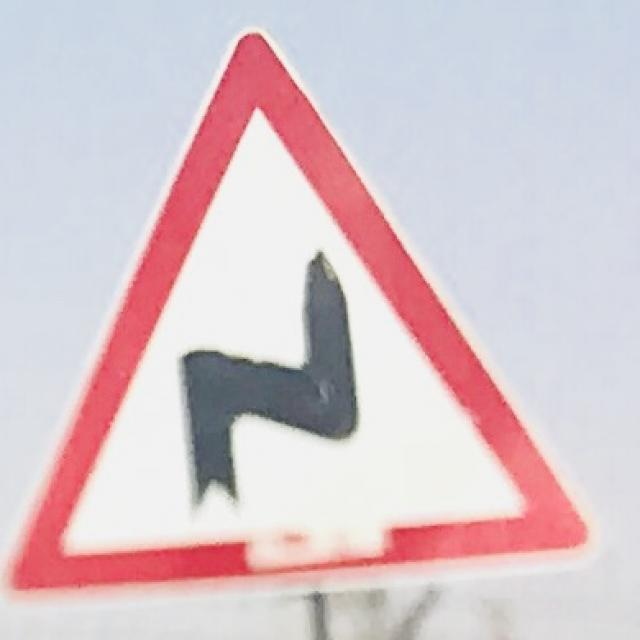right reverse bend: (19, 17, 587, 589)
